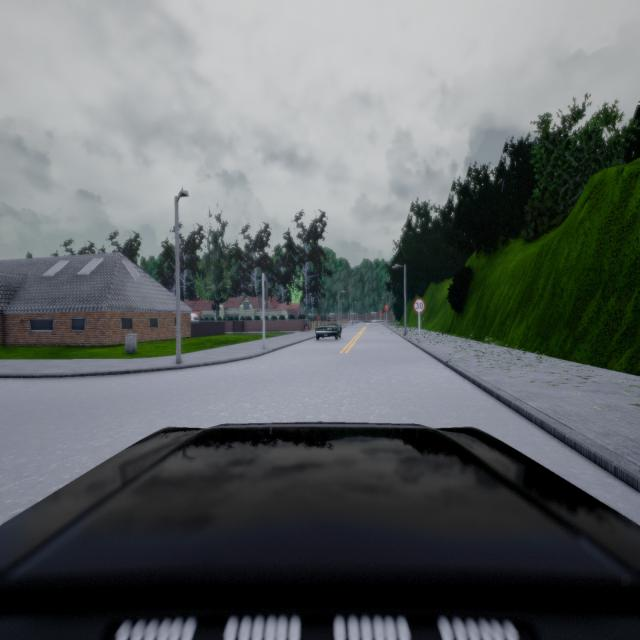Speed Limit -30-: (414, 298, 425, 314)
